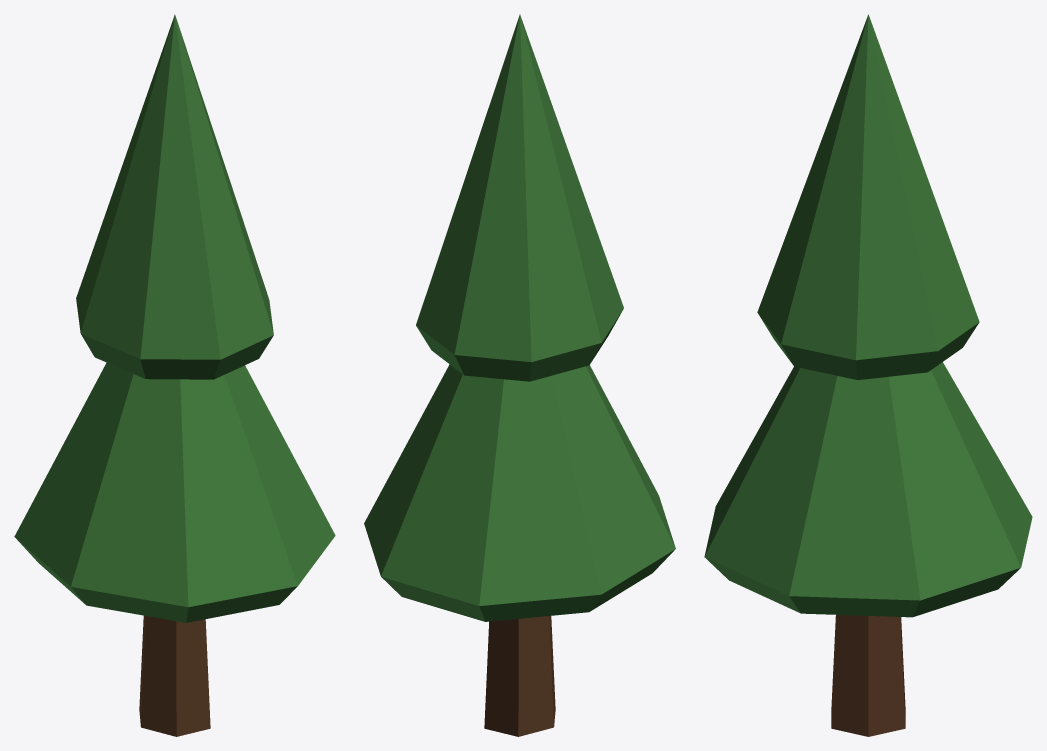
Rendered from tree-small.glb.
3 renders of one model, left to right at view 1: azimuth 30°, elevation 25°; view 2: azimuth 150°, elevation 25°; view 3: azimuth 270°, elevation 25°, orthographic.
Visible parts, largest first — view 1: tree-small; view 2: tree-small; view 3: tree-small.
Boxes of the visible parts, left/top/right/bottom form: tree-small: left=14, top=14, right=335, bottom=736; tree-small: left=364, top=14, right=675, bottom=736; tree-small: left=704, top=14, right=1032, bottom=736.
Size of the model in its own units: 0.33 by 0.855 by 0.36.
Materials: 1 (1 with a texture image).
